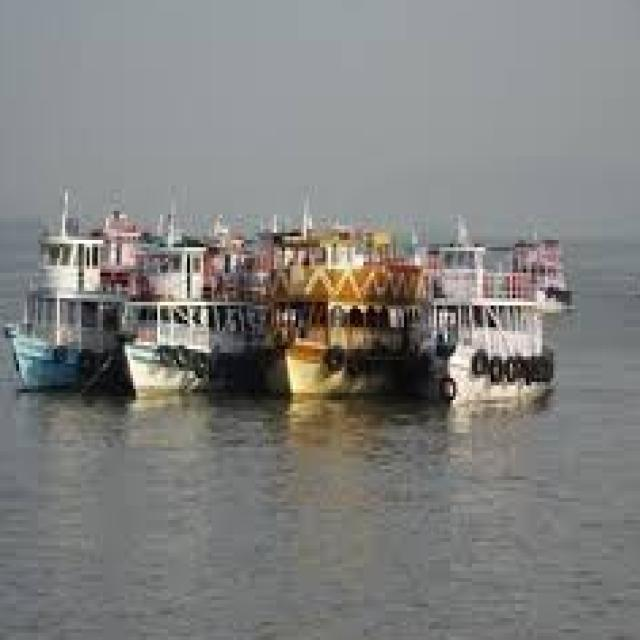fishing boat: (380, 194, 573, 414), (233, 220, 407, 394), (111, 212, 259, 400), (0, 189, 114, 386)
